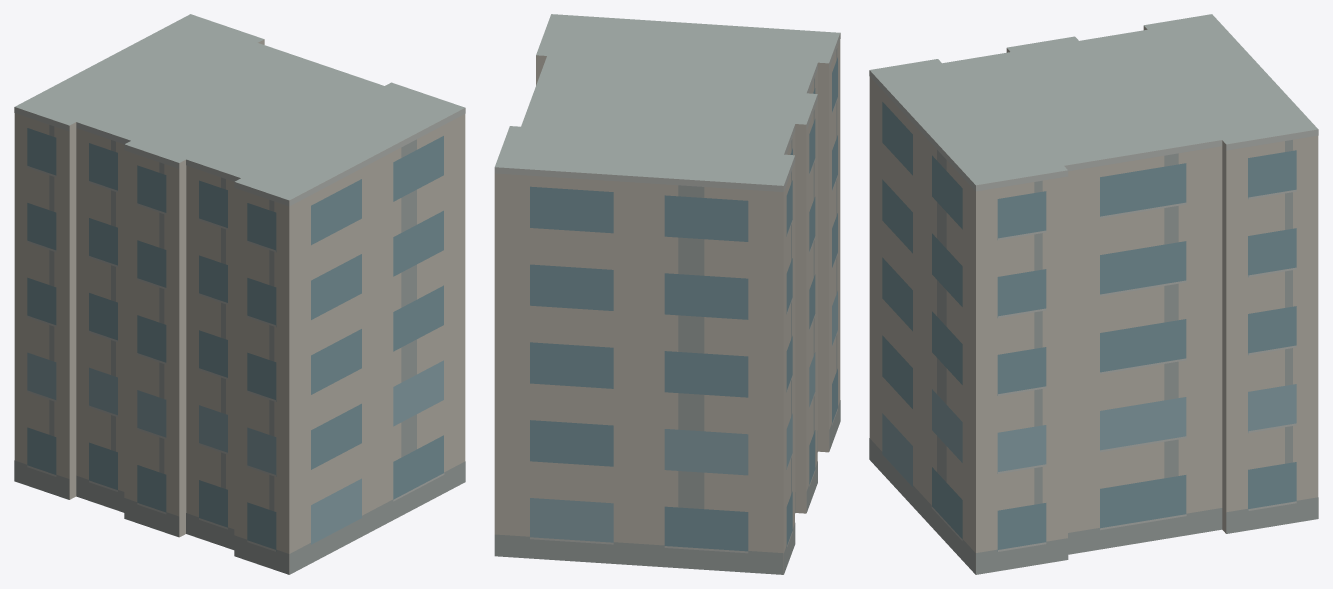
File: survey-upis-32614111.glb
The picture shows the model from 3 angles, left to right: view 1: azimuth 30°, elevation 25°; view 2: azimuth 150°, elevation 25°; view 3: azimuth 270°, elevation 25°; orthographic projection. The views are drawn at different scales.
Visible parts, largest first — view 1: survey-upis-32614111.tmp; view 2: survey-upis-32614111.tmp; view 3: survey-upis-32614111.tmp.
Boxes of the visible parts, x1=… form: survey-upis-32614111.tmp: x1=14, y1=14, x2=465, y2=574; survey-upis-32614111.tmp: x1=494, y1=14, x2=840, y2=574; survey-upis-32614111.tmp: x1=869, y1=14, x2=1318, y2=574.
Bounding box in the file's own units: 14.39 × 15.25 × 15.94.
